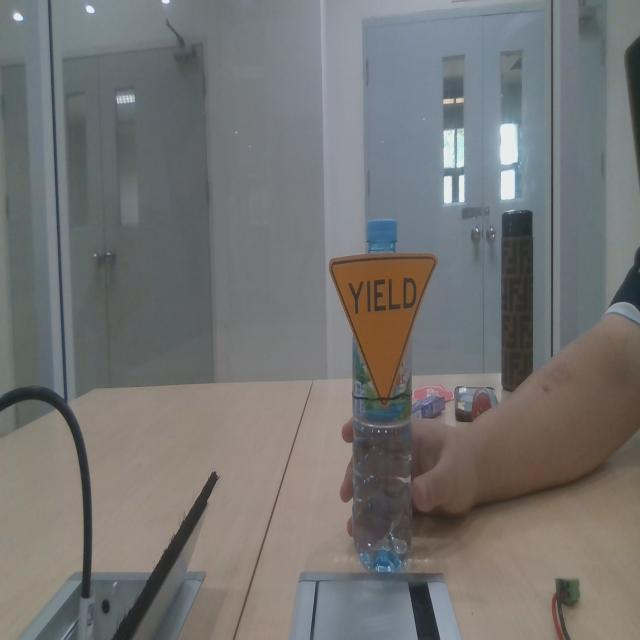Yield: (326, 252, 440, 408)
